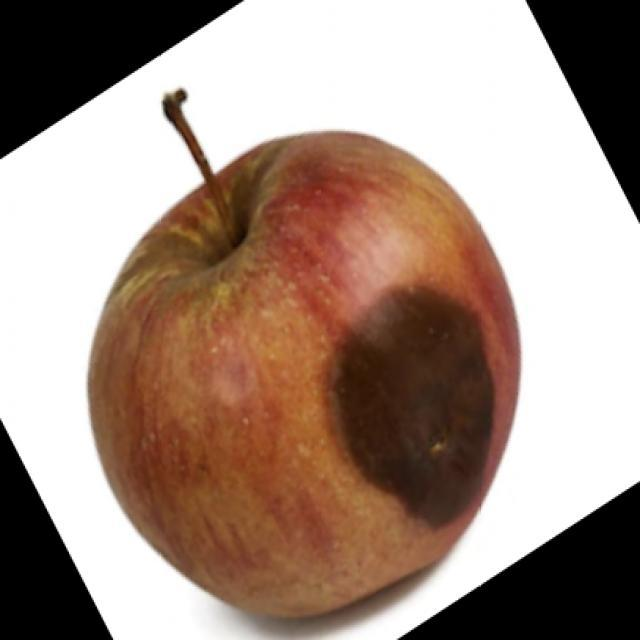Rotten: (65, 115, 523, 623)
